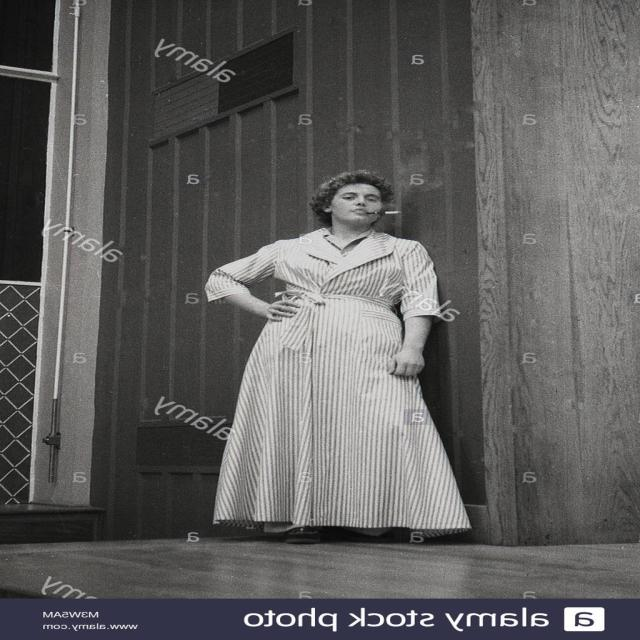smoking: (203, 170, 474, 544)
